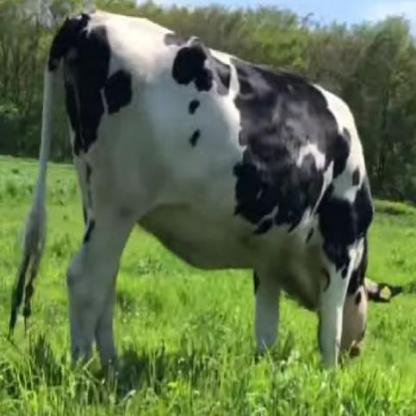cow: (9, 9, 374, 378)
